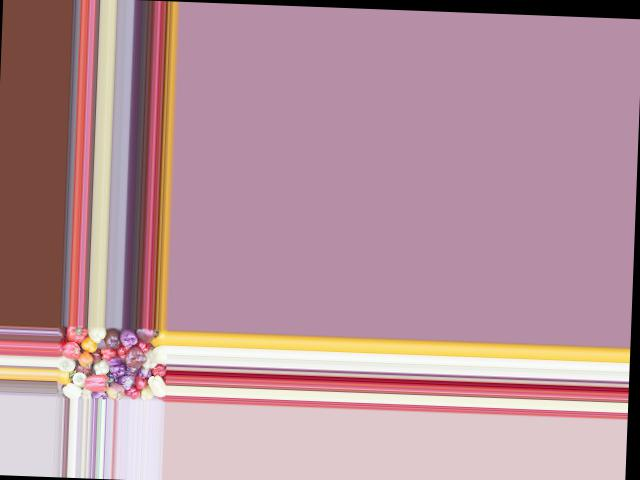bell_pepper: (57, 356, 77, 370)
